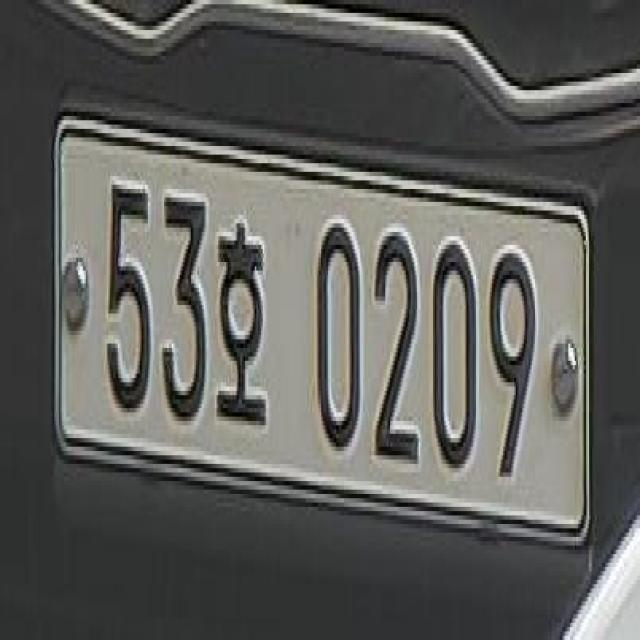0: (308, 210, 366, 477), (428, 230, 483, 498)
2: (370, 213, 420, 492)
3: (156, 177, 210, 438)
5: (102, 162, 154, 426)
9: (486, 237, 542, 488)
ho: (216, 199, 276, 459)
license_plate: (47, 102, 600, 587)
